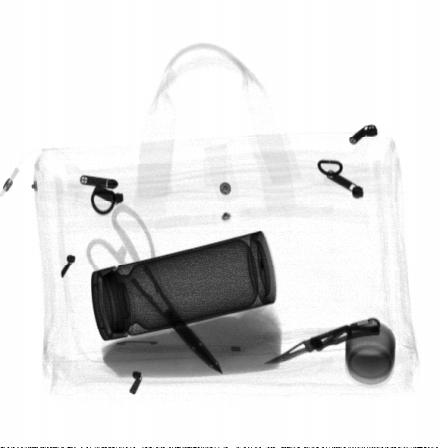Knife: (264, 317, 381, 363)
Scissors: (87, 204, 222, 374)
